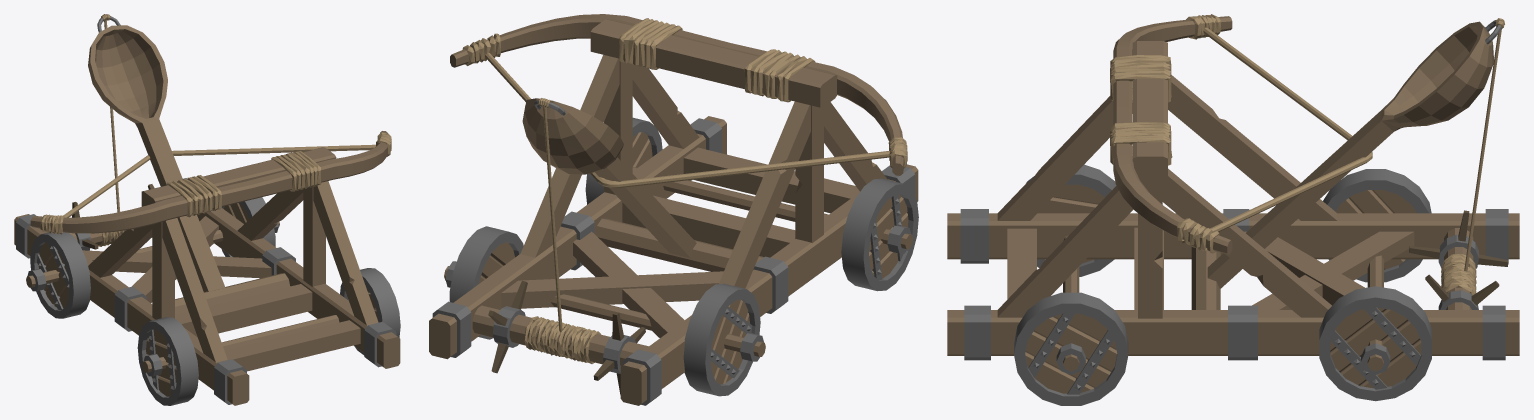
Rendered from siege_catapult.FBX.
3 views of the same model, side by side, from view 1: azimuth 30°, elevation 25°; view 2: azimuth 150°, elevation 25°; view 3: azimuth 270°, elevation 25° (orthographic). The views are drawn at different scales.
Visible parts, largest first — view 1: siege_catapult; view 2: siege_catapult; view 3: siege_catapult.
Part boxes in pixels (x1,y1,x2,y2): siege_catapult: (14,14,400,405); siege_catapult: (429,14,918,405); siege_catapult: (947,14,1519,405).
Size of the model in its own units: 4.67 by 3.03 by 4.94.
